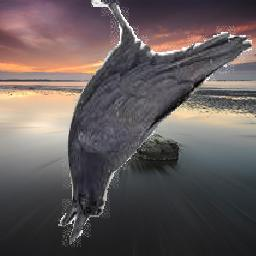Crow: (58, 0, 252, 247)
